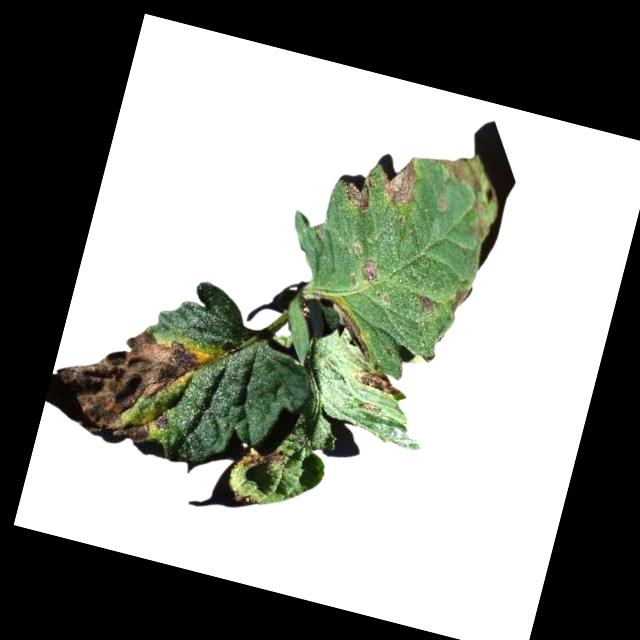Early_blight: (42, 311, 214, 454), (324, 304, 380, 359), (377, 149, 426, 210), (235, 442, 289, 479), (350, 366, 406, 399), (339, 169, 375, 213), (451, 284, 473, 317), (357, 257, 383, 284), (416, 296, 436, 315)
